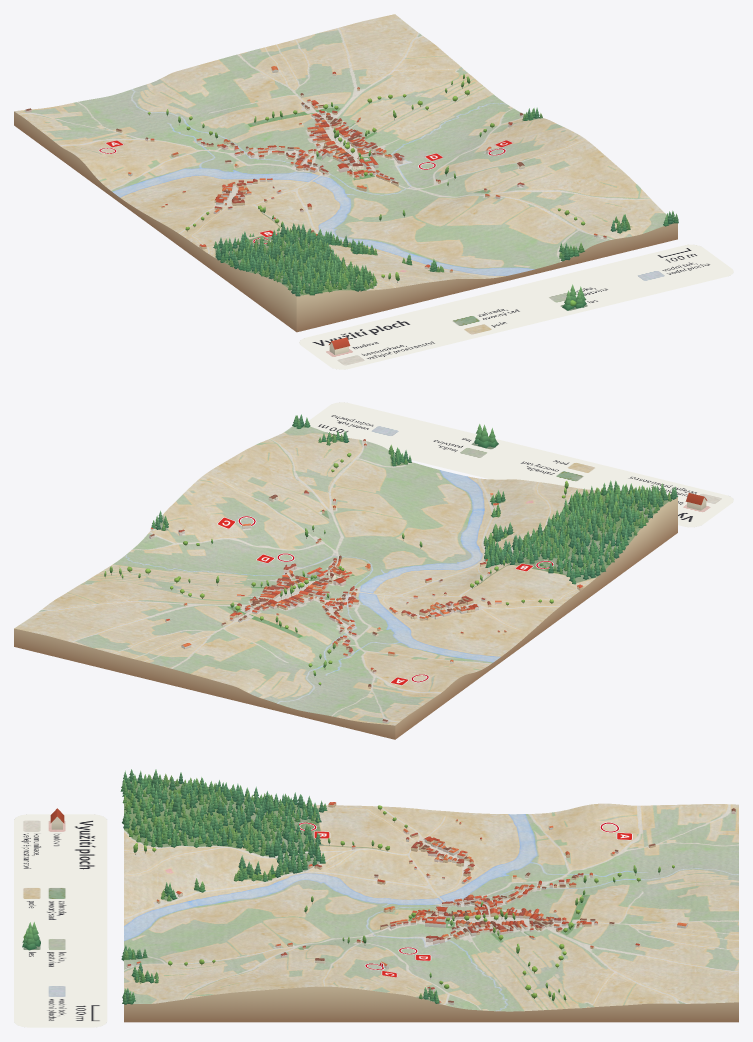
File: Frymburk_sada1_SMO5.glb
3 views of the same model, one above another, from view 1: azimuth 30°, elevation 25°; view 2: azimuth 150°, elevation 25°; view 3: azimuth 270°, elevation 25° (orthographic). The views are drawn at different scales.
Parts seen in each view (by area): view 1: DMR_SMO5, legenda_panel, stromy_SMO5, budovy_SMO5, legenda_objekty; view 2: DMR_SMO5, legenda_panel, stromy_SMO5, budovy_SMO5, legenda_objekty; view 3: DMR_SMO5, legenda_panel, stromy_SMO5, budovy_SMO5, legenda_objekty.
Part boxes in pixels (left/top/right/bottom): DMR_SMO5: left=14, top=14, right=677, bottom=332; legenda_panel: left=299, top=244, right=733, bottom=369; stromy_SMO5: left=147, top=74, right=678, bottom=296; budovy_SMO5: left=25, top=66, right=607, bottom=272; legenda_objekty: left=329, top=284, right=586, bottom=354; DMR_SMO5: left=14, top=425, right=677, bottom=739; legenda_panel: left=304, top=402, right=733, bottom=527; stromy_SMO5: left=104, top=414, right=677, bottom=685; budovy_SMO5: left=149, top=439, right=583, bottom=723; legenda_objekty: left=474, top=424, right=707, bottom=510; DMR_SMO5: left=124, top=779, right=738, bottom=1022; legenda_panel: left=14, top=814, right=107, bottom=1027; stromy_SMO5: left=120, top=769, right=674, bottom=1004; budovy_SMO5: left=126, top=802, right=735, bottom=1005; legenda_objekty: left=22, top=808, right=64, bottom=950.
Size of the model in its own units: 1490 by 187 by 2140.
12 materials, 6 textured.
